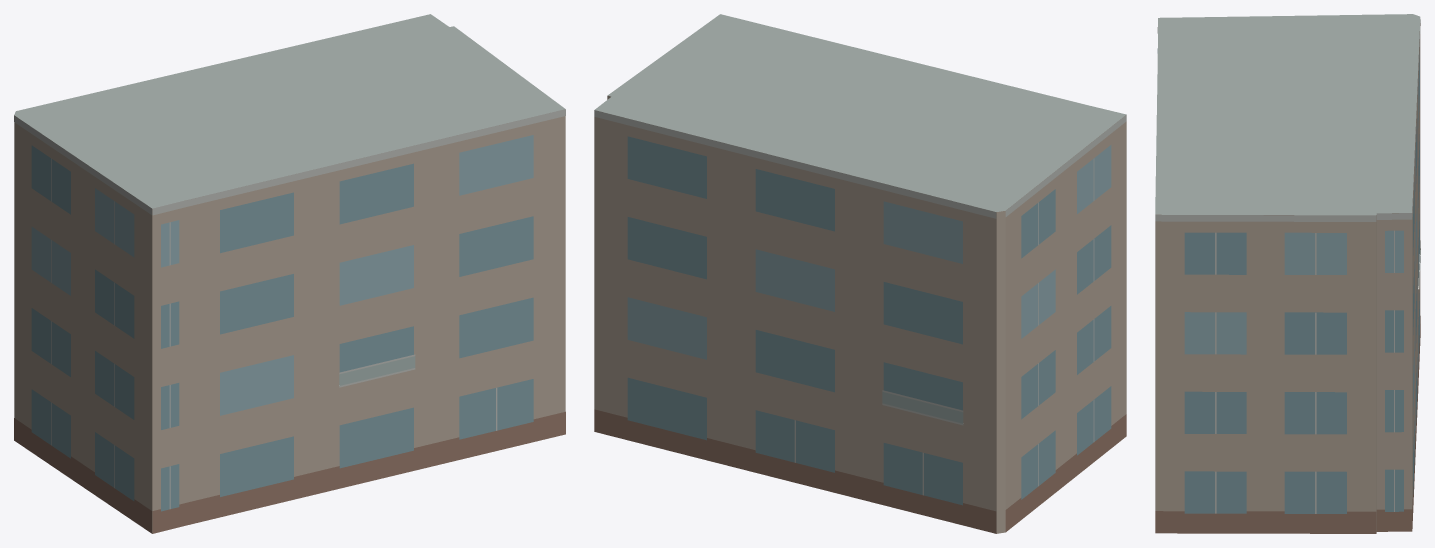
The model's file is survey-upis-32920860.glb.
The picture shows the model from 3 angles, left to right: view 1: azimuth 30°, elevation 25°; view 2: azimuth 150°, elevation 25°; view 3: azimuth 270°, elevation 25°; orthographic projection. The views are drawn at different scales.
Parts seen in each view (by area): view 1: survey-upis-32920860.tmp; view 2: survey-upis-32920860.tmp; view 3: survey-upis-32920860.tmp.
Boxes of the visible parts, x1,y1,x2,y2 form: survey-upis-32920860.tmp: [14, 14, 565, 533]; survey-upis-32920860.tmp: [594, 14, 1126, 533]; survey-upis-32920860.tmp: [1155, 14, 1420, 533].
Bounding box in the file's own units: 15.73 × 11.6 × 8.78.
